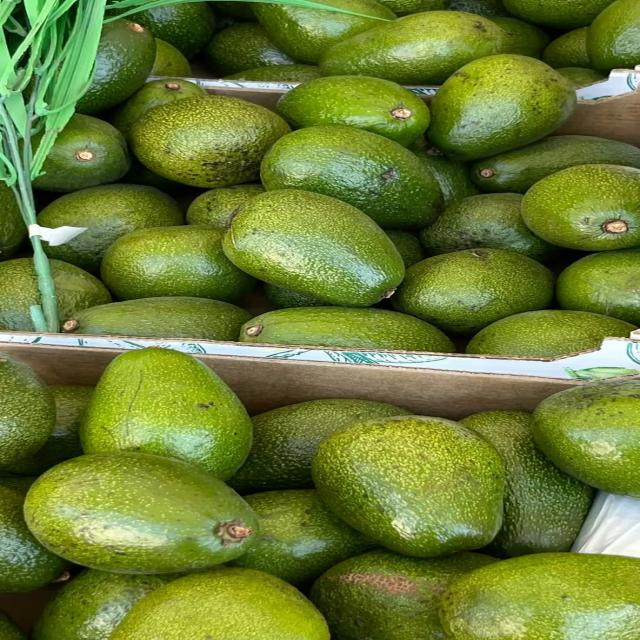avocado: (25, 452, 258, 573), (312, 416, 505, 557), (80, 348, 252, 480), (223, 190, 405, 306), (460, 411, 593, 557), (260, 126, 442, 229), (440, 553, 639, 639), (230, 399, 410, 493), (311, 550, 496, 639), (110, 568, 329, 639), (428, 54, 576, 159), (132, 96, 290, 188), (230, 489, 373, 588), (320, 11, 506, 85), (393, 249, 553, 335), (38, 184, 183, 273), (533, 380, 639, 498), (101, 226, 254, 301), (277, 76, 429, 146), (522, 164, 639, 251), (33, 570, 177, 639), (239, 307, 454, 352), (472, 136, 639, 193), (420, 193, 559, 261), (253, 0, 396, 64), (62, 297, 251, 341), (2, 386, 93, 476), (467, 310, 637, 357), (0, 478, 68, 593), (76, 17, 155, 114), (34, 114, 130, 191), (0, 354, 55, 469), (557, 248, 639, 325), (110, 78, 206, 139), (203, 23, 295, 76), (127, 2, 214, 58), (411, 141, 479, 205), (587, 0, 639, 71), (186, 184, 264, 229), (503, 0, 613, 29), (0, 258, 40, 331), (491, 17, 549, 58), (122, 157, 185, 194), (0, 181, 26, 261), (542, 27, 591, 68), (225, 64, 321, 82), (263, 283, 326, 308), (150, 39, 191, 77), (387, 230, 426, 268), (381, 0, 449, 16), (447, 0, 507, 17), (209, 0, 255, 22), (557, 68, 606, 88), (0, 611, 26, 639)
